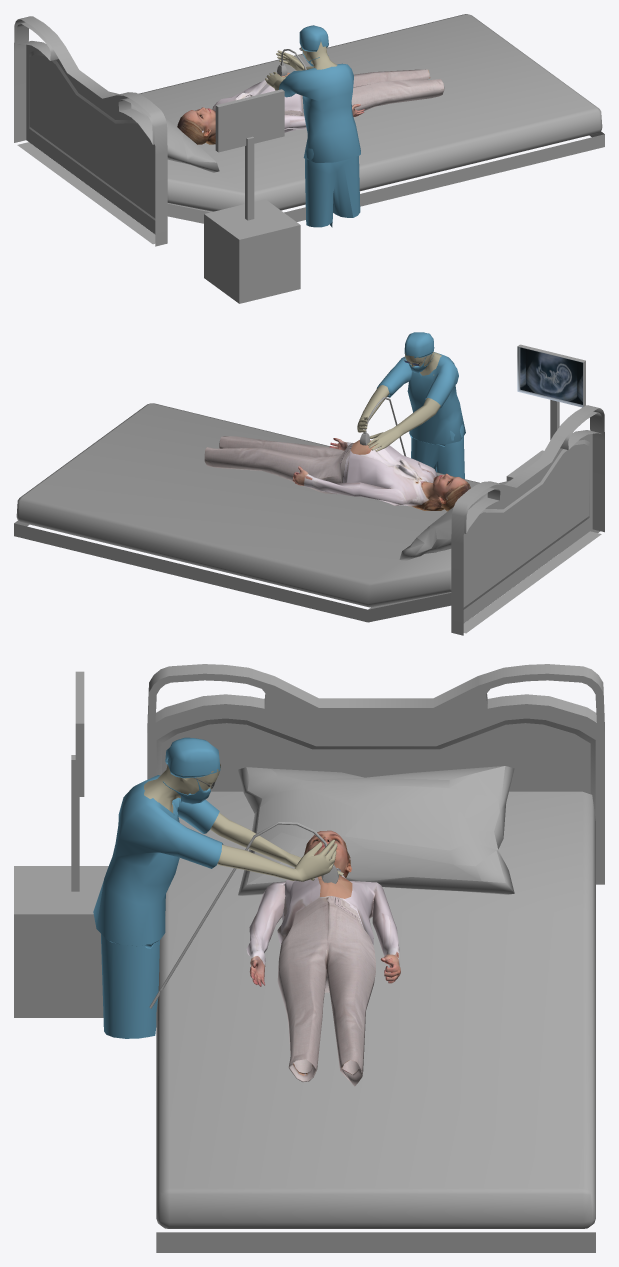
The model's file is pregent_women_setup.fbx.
3 views of the same model, one above another, from view 1: azimuth 30°, elevation 25°; view 2: azimuth 150°, elevation 25°; view 3: azimuth 270°, elevation 25° (orthographic). The views are drawn at different scales.
Visible parts, largest first — view 1: polySurface63, polySurface51, pCube11, pregnancy, Tops, polySurface49, polySurface58, polySurface7, tv, polySurface48, polySurface21, polySurface64 (+6 smaller); view 2: polySurface63, pregnancy, polySurface51, polySurface56, polySurface49, Tops, tv, polySurface48, polySurface21, polySurface7, polySurface64, polySurface40 (+7 smaller); view 3: polySurface63, polySurface64, pregnancy, polySurface48, polySurface51, pCube11, Tops, polySurface55, polySurface7, polySurface49, polySurface50, polySurface5 (+7 smaller).
Boxes of the visible parts, x1,y1,x2,y2 form: polySurface63: (138, 14, 602, 211); polySurface51: (29, 54, 155, 218); pCube11: (204, 136, 300, 303); pregnancy: (177, 69, 444, 144); Tops: (279, 63, 360, 162); polySurface49: (14, 16, 167, 237); polySurface58: (167, 134, 604, 223); polySurface7: (305, 148, 360, 227); tv: (215, 89, 284, 152); polySurface48: (26, 44, 155, 225); polySurface21: (17, 142, 155, 244); polySurface64: (109, 91, 219, 172); polySurface63: (16, 403, 479, 607); pregnancy: (204, 436, 470, 511); polySurface51: (463, 444, 589, 607); polySurface56: (14, 523, 451, 622); polySurface49: (451, 405, 604, 626); Tops: (376, 352, 465, 446); tv: (517, 344, 585, 407); polySurface48: (463, 434, 592, 614); polySurface21: (463, 531, 601, 633); polySurface7: (411, 424, 464, 478); polySurface64: (399, 480, 509, 560); polySurface40: (463, 520, 592, 623); polySurface63: (156, 791, 595, 1228); polySurface64: (238, 766, 514, 896); pregnancy: (246, 830, 400, 1086); polySurface48: (147, 673, 604, 869); polySurface51: (162, 723, 590, 793); pCube11: (14, 755, 108, 1017); Tops: (93, 775, 223, 948); polySurface55: (156, 1232, 595, 1252); polySurface7: (101, 934, 159, 1038); polySurface49: (147, 664, 604, 732); polySurface50: (156, 718, 595, 818); polySurface5: (217, 839, 337, 881).
Bounding box in the file's own units: 323 × 139 × 226.
Materials: 9 (2 with a texture image).
